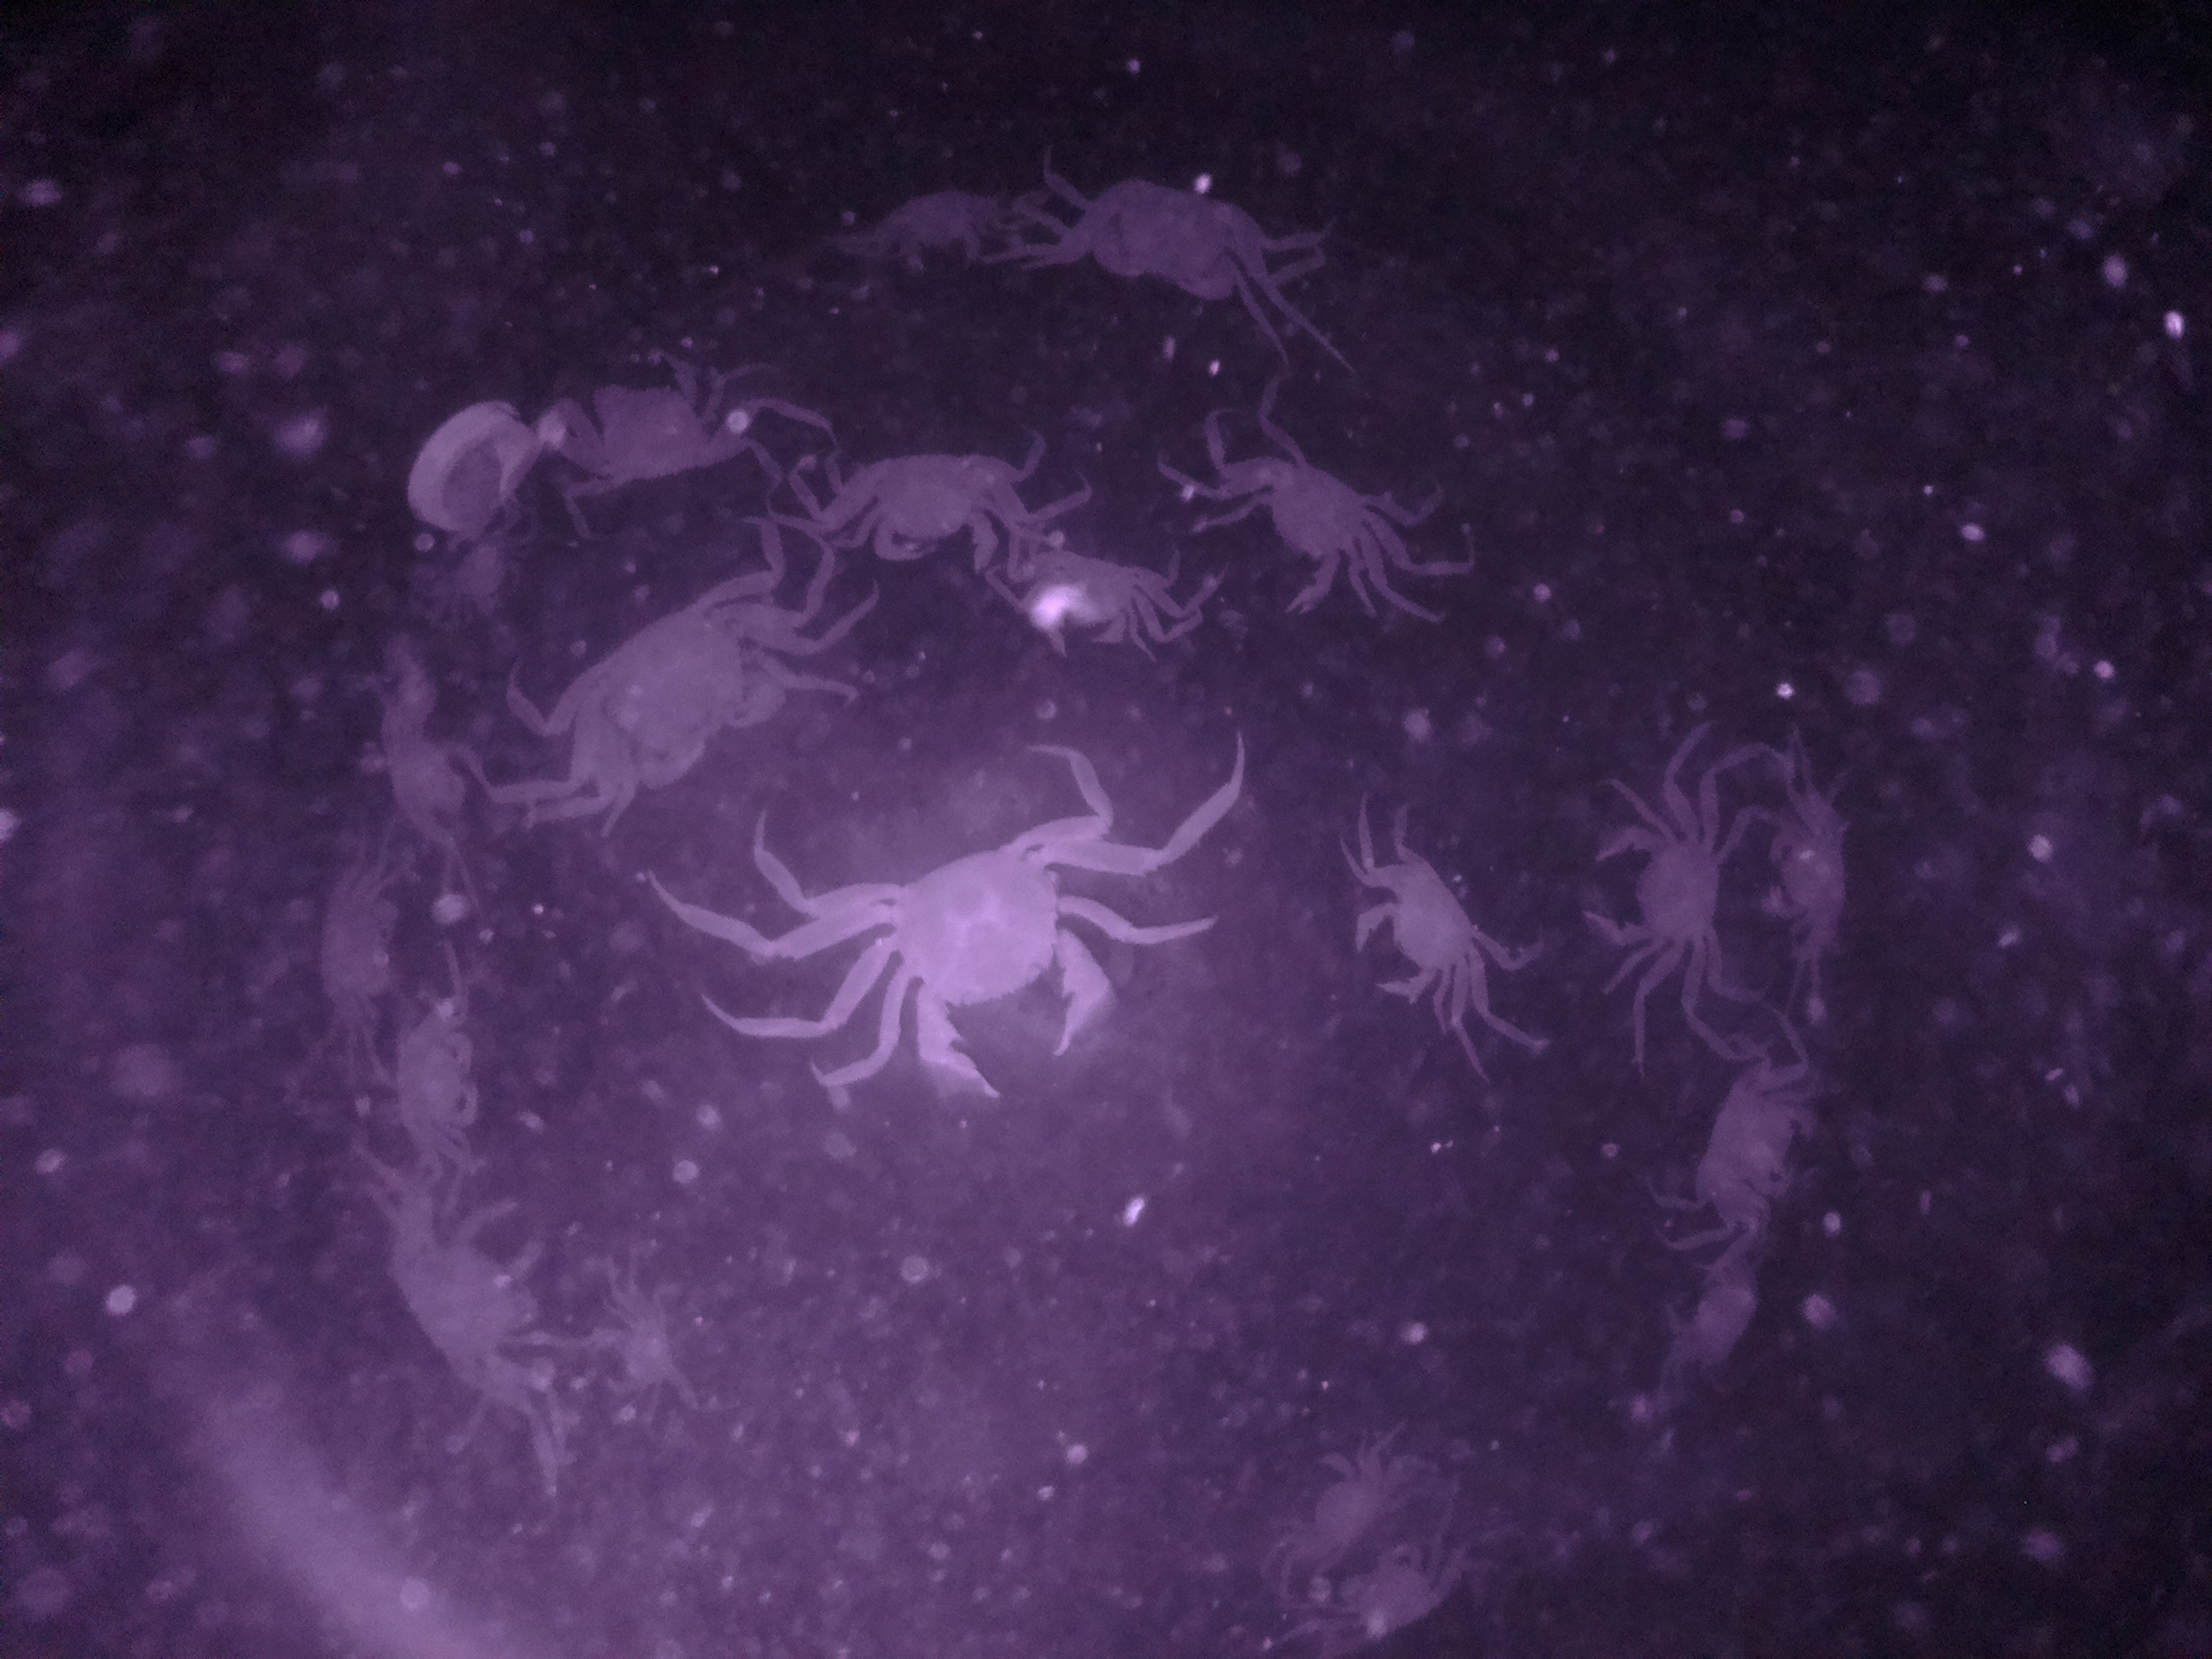Crab: (867, 805, 1129, 1126), (566, 592, 799, 829), (368, 1182, 566, 1422), (1049, 159, 1289, 317), (1198, 429, 1404, 613), (1569, 795, 1749, 990), (1663, 1053, 1824, 1255), (1343, 835, 1489, 1033), (824, 425, 1021, 572), (552, 345, 733, 495), (369, 995, 516, 1171), (1277, 1424, 1423, 1589), (1750, 796, 1878, 941), (582, 1283, 695, 1417)
